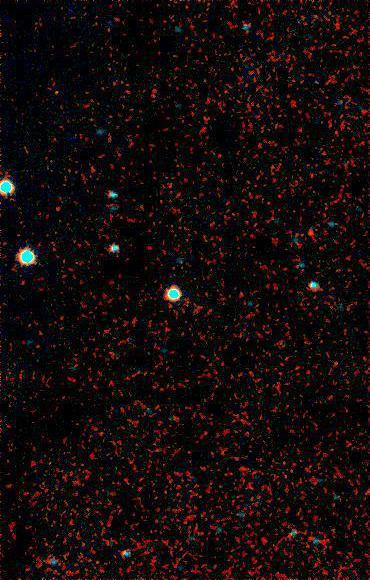star: (302, 216, 332, 246)
